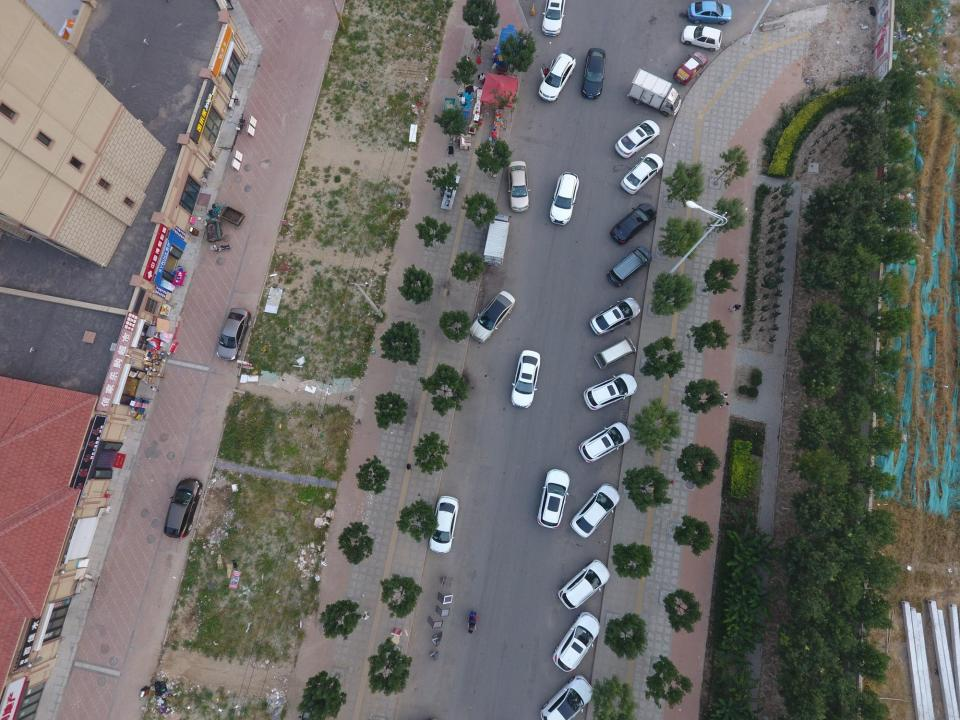car: (552, 612, 600, 672), (569, 483, 620, 538), (558, 559, 610, 611), (164, 477, 203, 538), (469, 291, 515, 342), (540, 676, 593, 720), (578, 422, 631, 463), (583, 373, 638, 410), (590, 297, 641, 336), (537, 469, 570, 528), (610, 203, 657, 244), (538, 54, 576, 102), (216, 308, 251, 360), (621, 153, 665, 194), (548, 172, 580, 225), (511, 350, 540, 408), (429, 496, 458, 554), (616, 120, 660, 158), (581, 48, 607, 99), (507, 161, 531, 212), (673, 51, 708, 85), (681, 25, 722, 52), (688, 0, 732, 24), (541, 0, 566, 36)
truck: (628, 68, 682, 117), (482, 212, 512, 266)
van: (608, 247, 652, 286), (594, 337, 637, 370)
